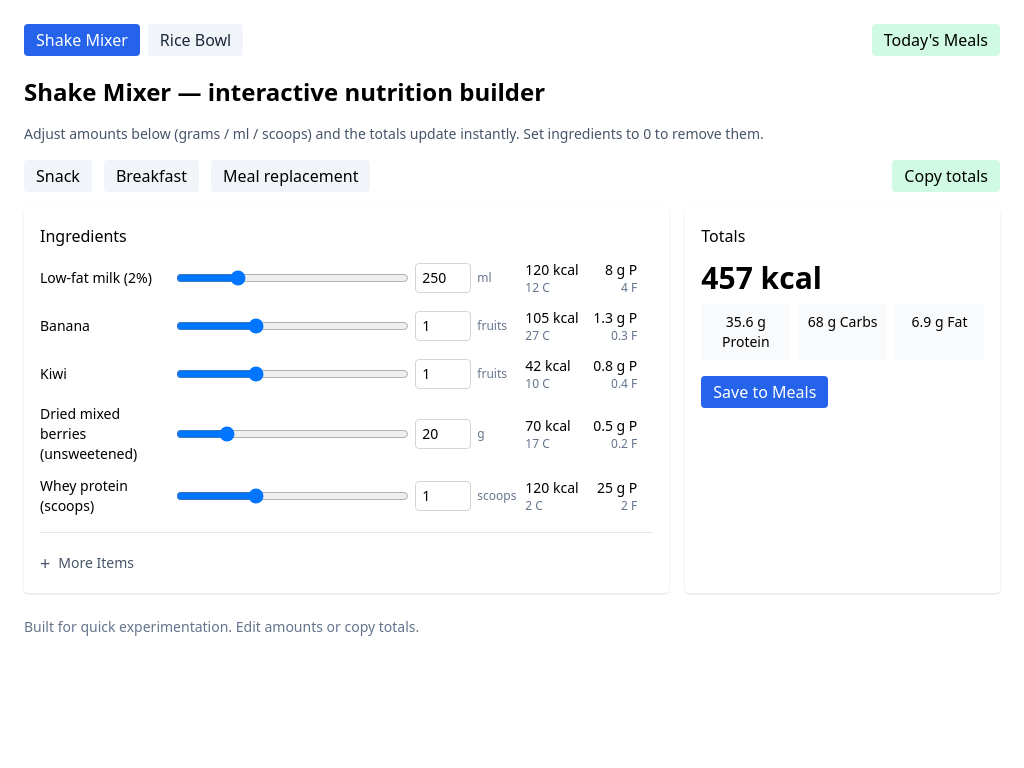
Test: Shake Mixer App › Zero Totals › totals become zero when all ingredients set to 0
The width and height of the screenshot is (1024, 768).
Set the slider named "Low-fat milk (2%)" to "0" at (184, 278), box x1=176 y1=270 x2=409 y2=286
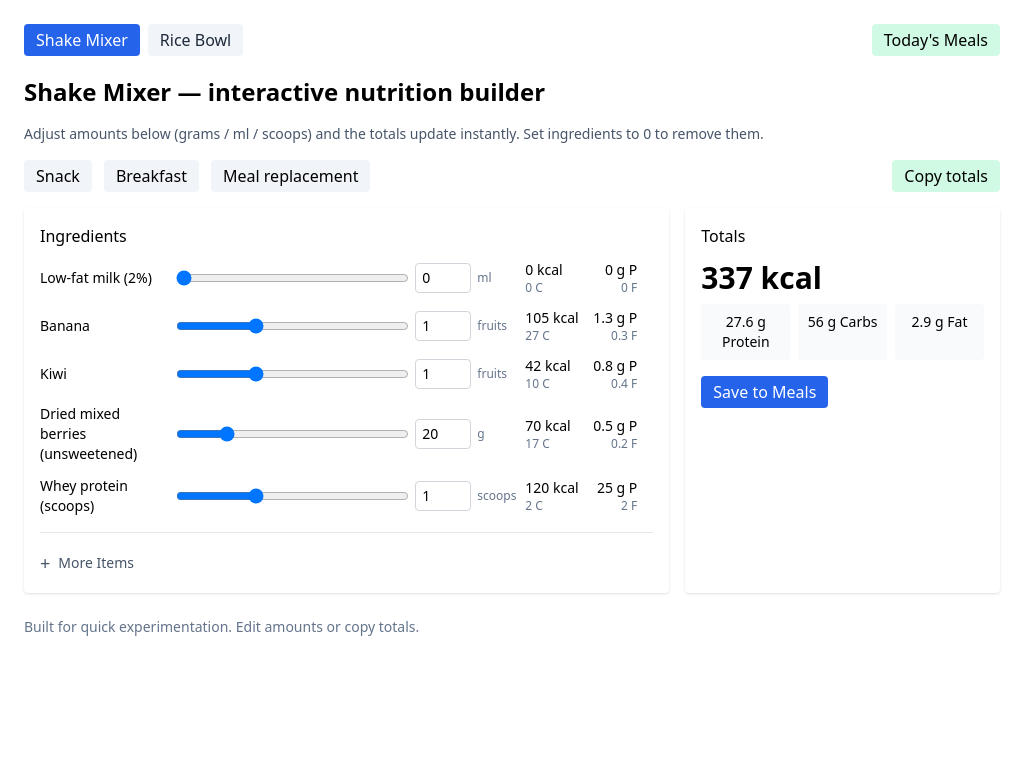
Set the slider named "Banana" to "0" at (184, 326), box x1=176 y1=318 x2=409 y2=334
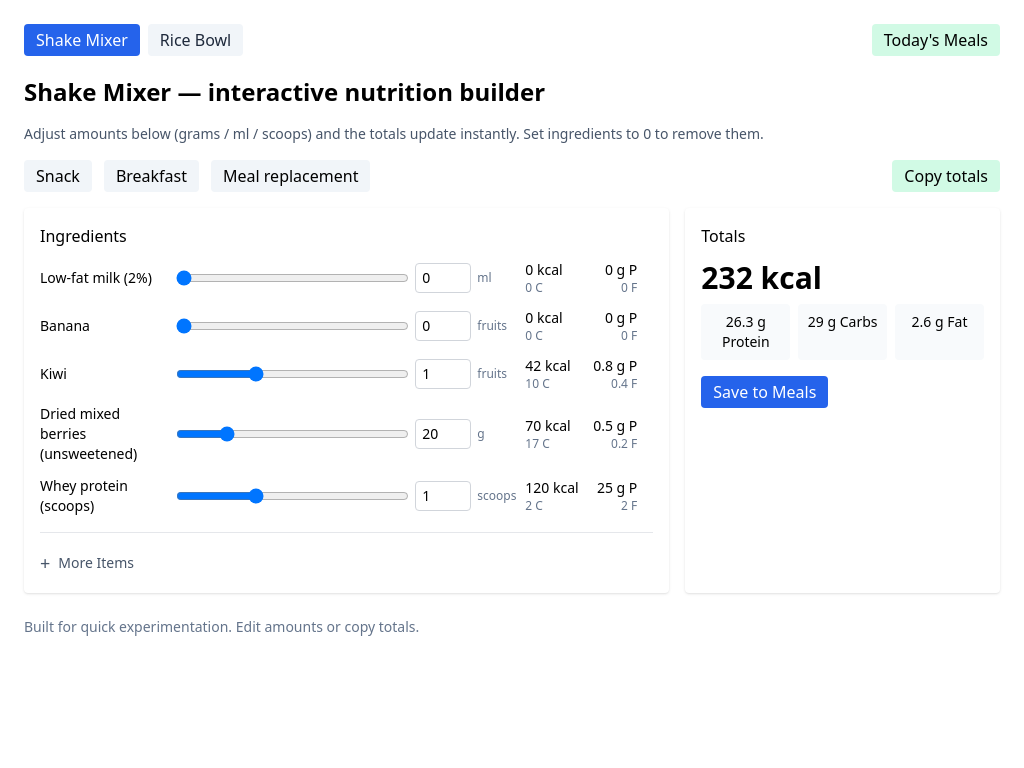
Set the slider named "Kiwi" to "0" at (184, 374), box x1=176 y1=366 x2=409 y2=382
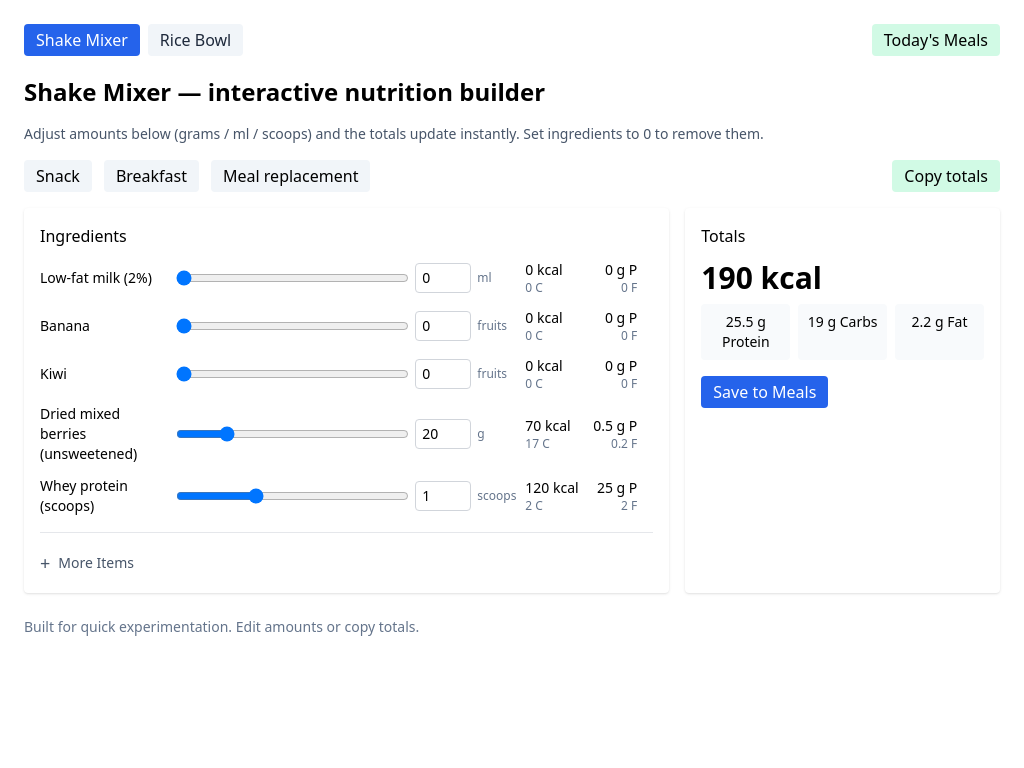
Set the slider named "Dried mixed berries (unsweetened)" to "0" at (184, 434), box x1=176 y1=426 x2=409 y2=442
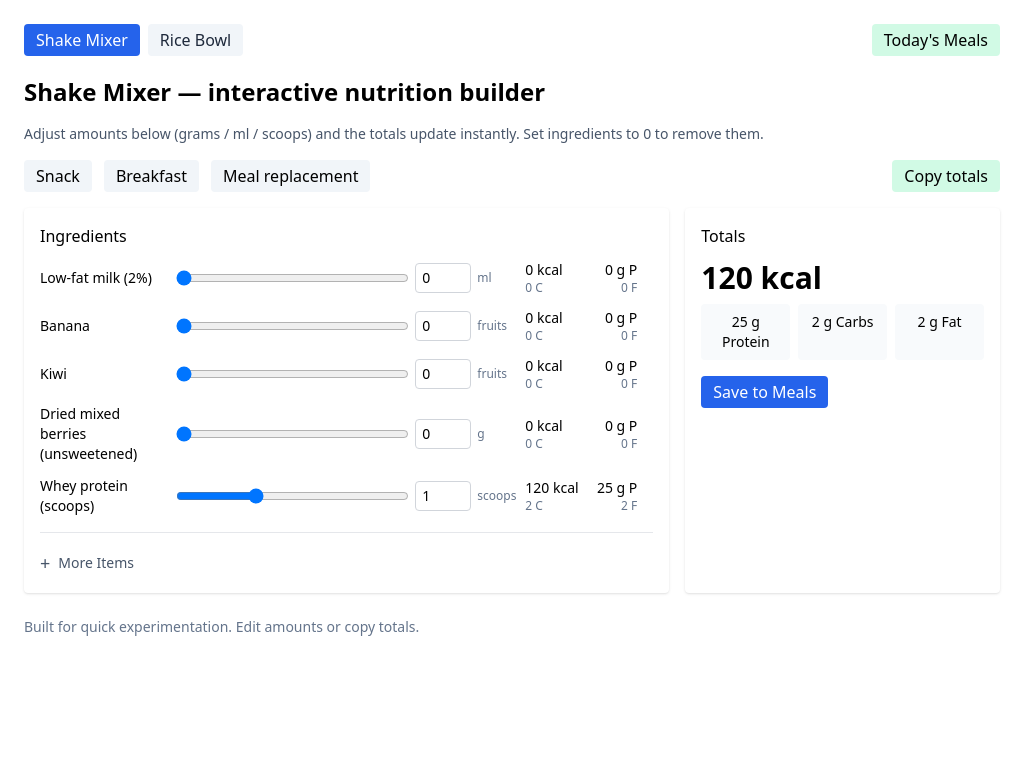
Set the slider named "Whey protein (scoops)" to "0" at (184, 496), box x1=176 y1=488 x2=409 y2=504
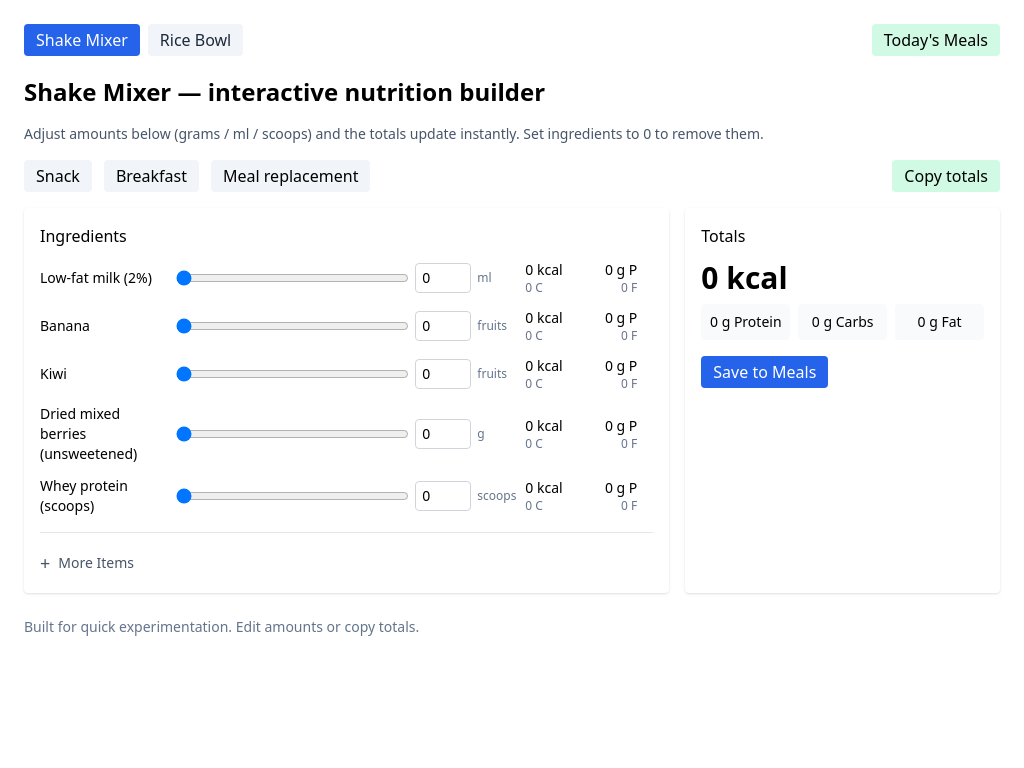
Expected: the text "0 g Protein" is shown, x1=701 y1=304 x2=790 y2=340
Expected: the text "0 g Carbs" is shown, x1=798 y1=304 x2=887 y2=340
Expected: the text "0 g Fat" is shown, x1=895 y1=304 x2=984 y2=340
